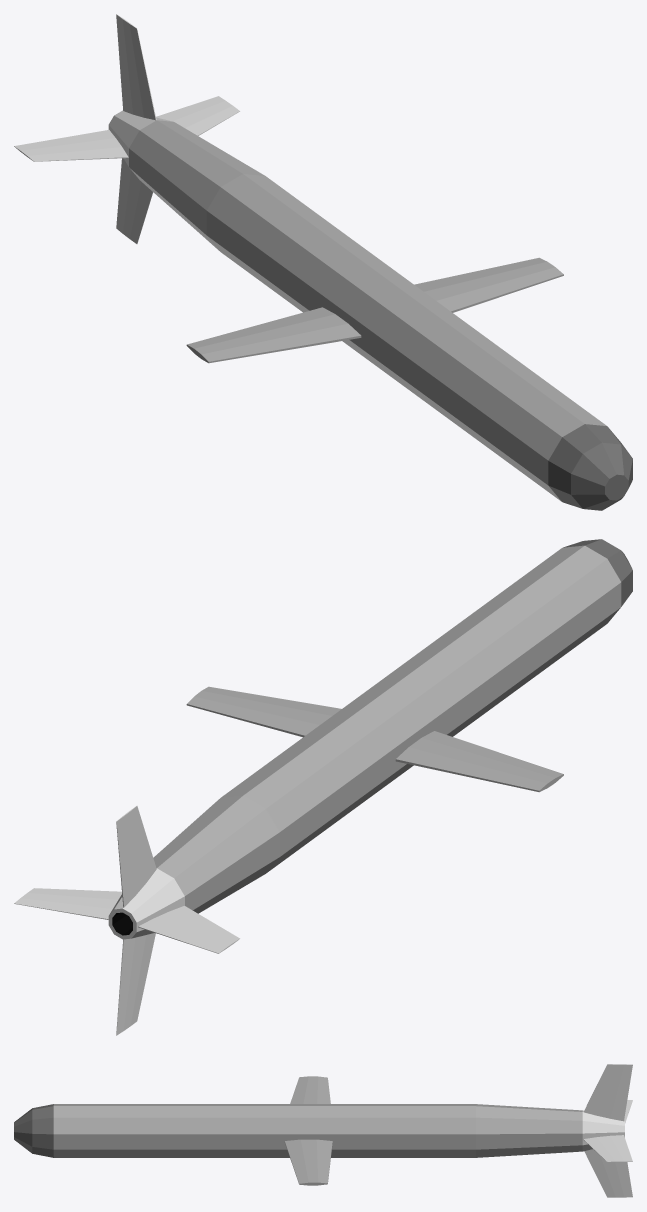
File: SM_missile04.fbx
3 views of the same model, one above another, from view 1: azimuth 30°, elevation 25°; view 2: azimuth 150°, elevation 25°; view 3: azimuth 270°, elevation 25° (orthographic). The views are drawn at different scales.
Visible parts, largest first — view 1: Cylinder; view 2: Cylinder; view 3: Cylinder.
Boxes of the visible parts, x1,y1,x2,y2 form: Cylinder: [14, 14, 632, 510]; Cylinder: [14, 539, 632, 1035]; Cylinder: [14, 1064, 632, 1197].
Bounding box in the file's own units: 240 × 139 × 586.
